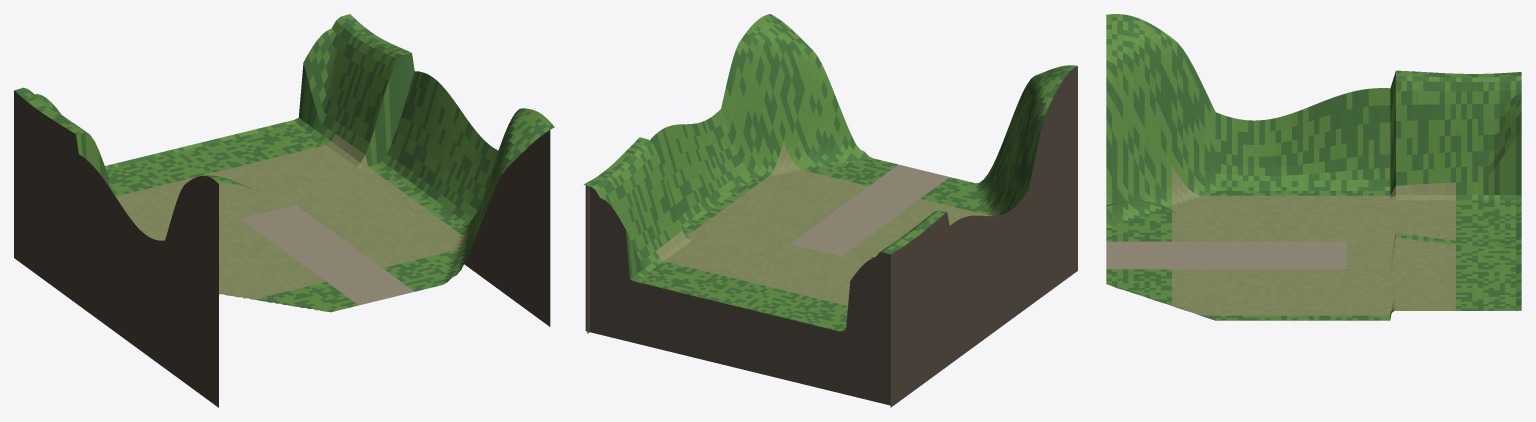
The model's file is post-terrain.glb.
3 renders of one model, left to right at view 1: azimuth 30°, elevation 25°; view 2: azimuth 150°, elevation 25°; view 3: azimuth 270°, elevation 25°, orthographic. The views are drawn at different scales.
Visible parts, largest first — view 1: PostTerrain; view 2: PostTerrain; view 3: PostTerrain.
Boxes of the visible parts, <box> form: PostTerrain: <box>14,14,554,407</box>; PostTerrain: <box>583,14,1077,407</box>; PostTerrain: <box>1106,14,1521,320</box>.
Size of the model in its own units: 36 by 23.01 by 38.
